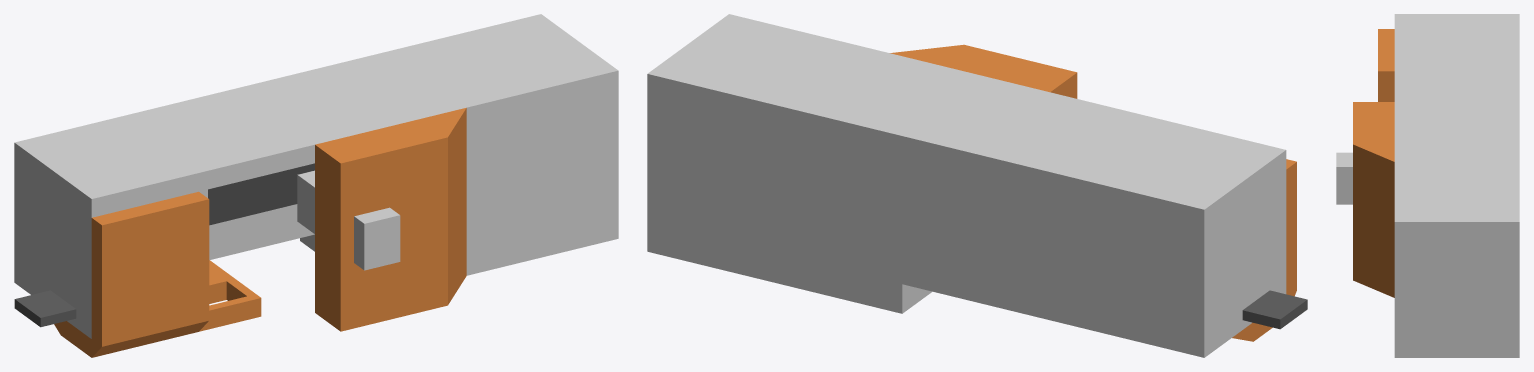
Rendered from cnc_vertical_machining_center_5_state_1.dae.
3 views of the same model, side by side, from view 1: azimuth 30°, elevation 25°; view 2: azimuth 150°, elevation 25°; view 3: azimuth 270°, elevation 25° (orthographic). The views are drawn at different scales.
Parts seen in each view (by area): view 1: coords_ME_ID79_MA_material_8, coords_ME_ID17_MA_material_10, coords_ME_ID39_MA_material_10, coords_ME_ID25_MA_material, coords_ME_ID31_MA_material_8, coords_ME_ID65_MA_material_5, coords_ME_ID53_MA_material_8, coords_ME_ID73_MA_material_10; view 2: coords_ME_ID79_MA_material_8, coords_ME_ID17_MA_material_10, coords_ME_ID39_MA_material_10, coords_ME_ID65_MA_material_5; view 3: coords_ME_ID79_MA_material_8, coords_ME_ID17_MA_material_10, coords_ME_ID39_MA_material_10, coords_ME_ID31_MA_material_8.
Part boxes in pixels (x1,y1,x2,y2): coords_ME_ID79_MA_material_8: [14, 14, 618, 338]; coords_ME_ID17_MA_material_10: [315, 107, 466, 331]; coords_ME_ID39_MA_material_10: [54, 191, 261, 357]; coords_ME_ID25_MA_material: [208, 163, 314, 225]; coords_ME_ID31_MA_material_8: [354, 207, 400, 270]; coords_ME_ID65_MA_material_5: [14, 290, 76, 327]; coords_ME_ID53_MA_material_8: [297, 170, 314, 233]; coords_ME_ID73_MA_material_10: [209, 281, 246, 303]; coords_ME_ID79_MA_material_8: [647, 14, 1286, 357]; coords_ME_ID17_MA_material_10: [890, 44, 1077, 98]; coords_ME_ID39_MA_material_10: [1232, 159, 1296, 341]; coords_ME_ID65_MA_material_5: [1242, 290, 1307, 329]; coords_ME_ID79_MA_material_8: [1394, 14, 1519, 357]; coords_ME_ID17_MA_material_10: [1353, 102, 1394, 297]; coords_ME_ID39_MA_material_10: [1378, 29, 1394, 101]; coords_ME_ID31_MA_material_8: [1336, 152, 1352, 204].
Size of the model in its own units: 99.21 by 29.92 by 34.65.
